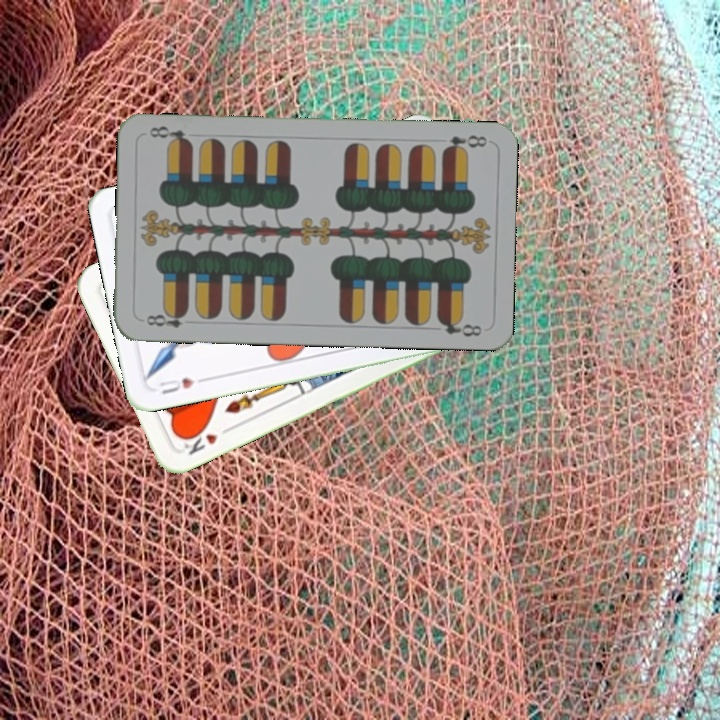E8: (439, 130, 489, 155), (142, 307, 190, 330)
HK: (176, 423, 221, 458)
HU: (155, 373, 209, 397)
